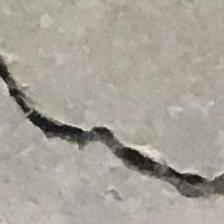Crack: (0, 46, 224, 214)
